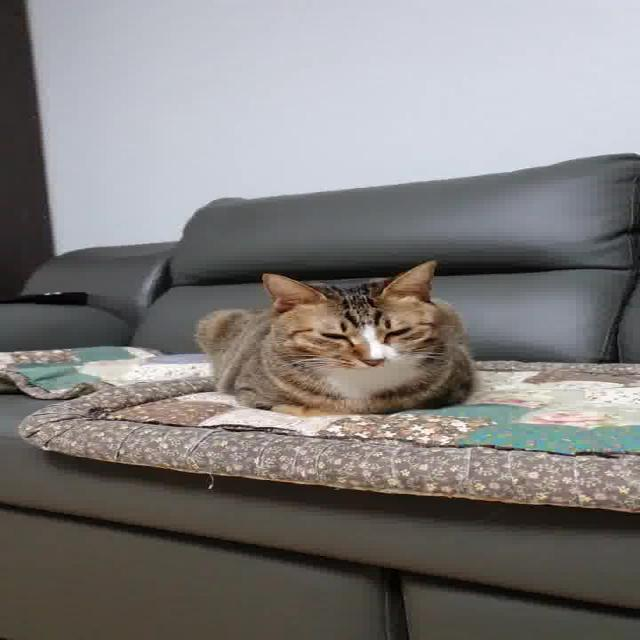cat: (192, 260, 486, 418)
